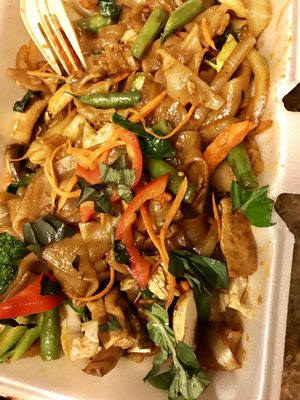curry: (0, 231, 26, 297), (75, 0, 122, 33)
